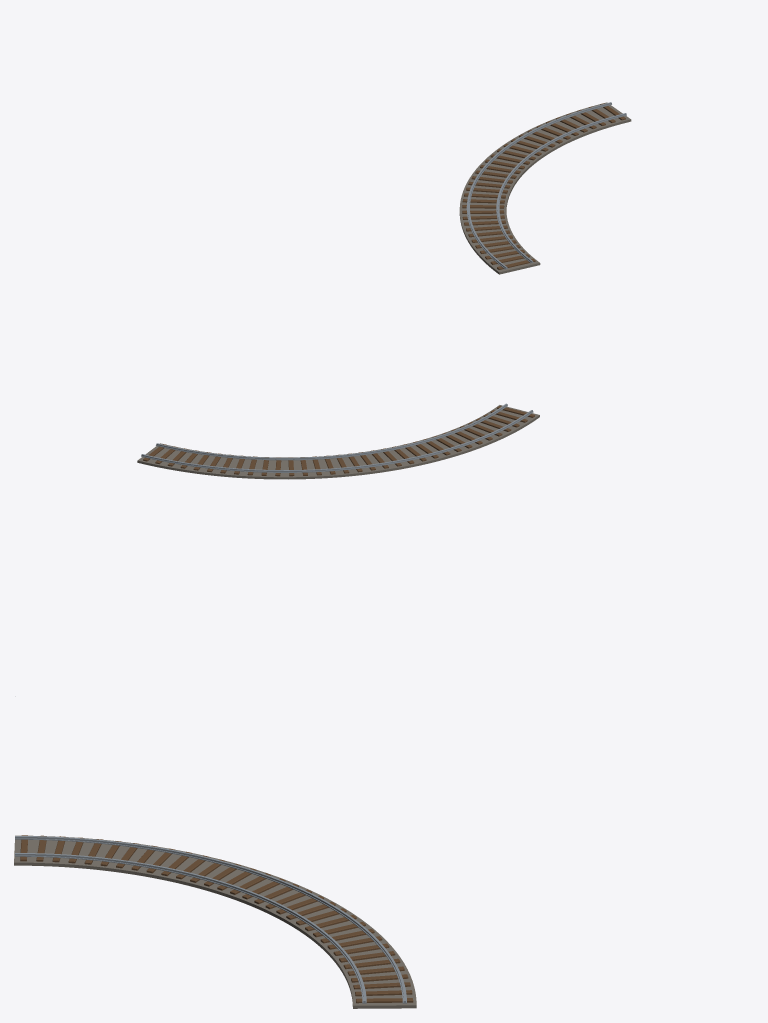
The model's file is rail_virage_grand.glb.
3 views of the same model, one above another, from view 1: azimuth 30°, elevation 25°; view 2: azimuth 150°, elevation 25°; view 3: azimuth 270°, elevation 25° (orthographic). The views are drawn at different scales.
Parts seen in each view (by area): view 1: rail_ballast.010, rail_traverse.010, rail_rail.010; view 2: rail_ballast.010, rail_traverse.010, rail_rail.010; view 3: rail_ballast.010, rail_traverse.010, rail_rail.010.
Part boxes in pixels (x1,y1,x2,y2): rail_ballast.010: (459, 102, 631, 274); rail_traverse.010: (462, 103, 625, 269); rail_rail.010: (466, 102, 626, 269); rail_ballast.010: (137, 405, 539, 479); rail_traverse.010: (143, 406, 534, 476); rail_rail.010: (141, 403, 533, 472); rail_ballast.010: (14, 835, 416, 1008); rail_traverse.010: (20, 835, 413, 1003); rail_rail.010: (15, 836, 406, 1003).
Size of the model in its own units: 11.02 by 0.12 by 11.02.
